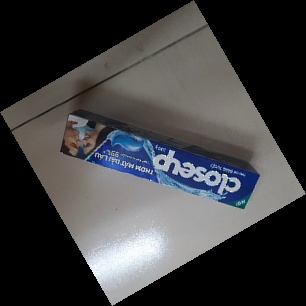CloseUp Tuyet: (59, 108, 261, 209)
